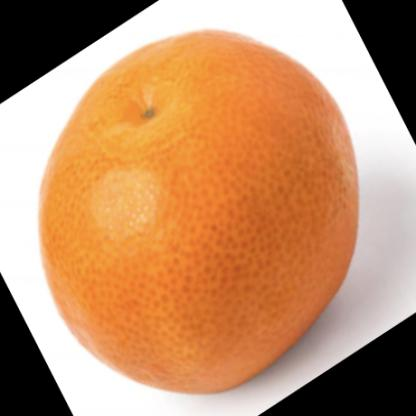orange: (40, 28, 365, 403)
